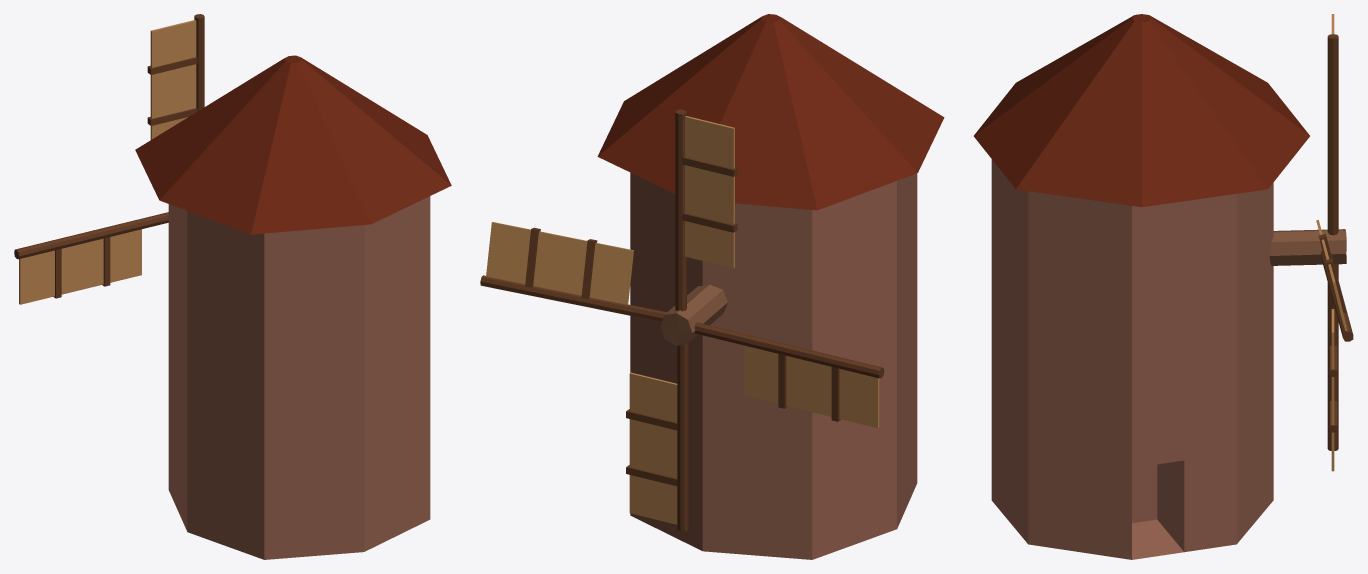
File: mill.fbx
3 views of the same model, side by side, from view 1: azimuth 30°, elevation 25°; view 2: azimuth 150°, elevation 25°; view 3: azimuth 270°, elevation 25° (orthographic). The views are drawn at different scales.
Visible parts, largest first — view 1: Cube, Cube.017, Cube.007, Cube.003, Cube.008, Cube.002; view 2: Cube, Cube.017, Cube.010, Cube.003, Cube.007, Cube.015, Cube.008, mill notch, Cube.016, Cube.002, Cube.009; view 3: Cube, Cube.017, Cube.002, mill notch, Cube.016, Cube.015, Cube.009.
Boxes of the visible parts, x1,y1,x2,y2 form: Cube: [168, 196, 430, 559]; Cube.017: [135, 55, 451, 234]; Cube.007: [19, 229, 141, 304]; Cube.003: [150, 20, 196, 139]; Cube.008: [14, 212, 168, 259]; Cube.002: [194, 14, 204, 110]; Cube: [630, 172, 917, 559]; Cube.017: [597, 14, 944, 210]; Cube.010: [486, 222, 633, 304]; Cube.003: [685, 116, 734, 268]; Cube.007: [744, 345, 879, 428]; Cube.015: [629, 372, 677, 524]; Cube.008: [694, 322, 884, 378]; mill notch: [661, 284, 727, 345]; Cube.016: [677, 343, 688, 531]; Cube.002: [675, 109, 686, 311]; Cube.009: [480, 275, 666, 321]; Cube: [991, 159, 1273, 559]; Cube.017: [973, 14, 1309, 207]; Cube.002: [1327, 34, 1338, 235]; mill notch: [1269, 229, 1346, 265]; Cube.016: [1327, 264, 1338, 450]; Cube.015: [1331, 309, 1334, 471]; Cube.009: [1320, 251, 1353, 341].
Size of the model in its own units: 1248 by 1476 by 1056.
